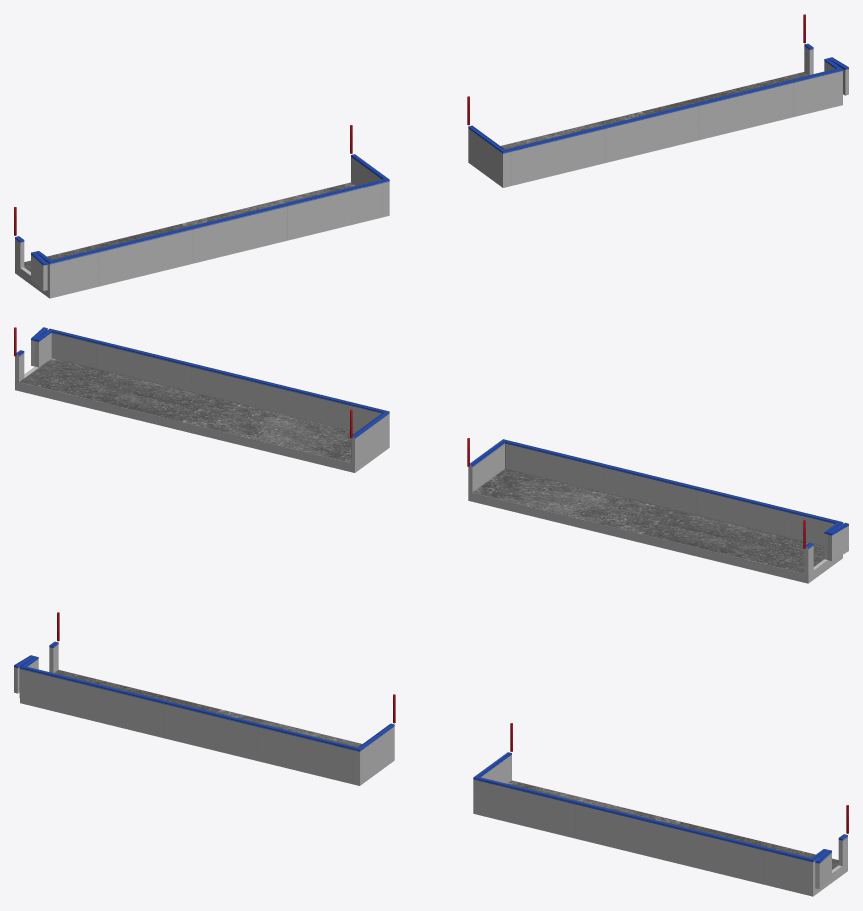
Rendered from Players_bench_Ufa.FBX.
3 views of the same model, one above another, from view 1: azimuth 30°, elevation 25°; view 2: azimuth 150°, elevation 25°; view 3: azimuth 330°, elevation 25° (orthographic).
Visible parts, largest first — view 1: Players_bench_Ufa; view 2: Players_bench_Ufa; view 3: Players_bench_Ufa.
Boxes of the visible parts, <box> form: Players_bench_Ufa: <box>14,14,848,298</box>; Players_bench_Ufa: <box>14,327,848,583</box>; Players_bench_Ufa: <box>14,612,848,896</box>.
Bounding box in the file's own units: 28.42 × 2.16 × 2.27.
